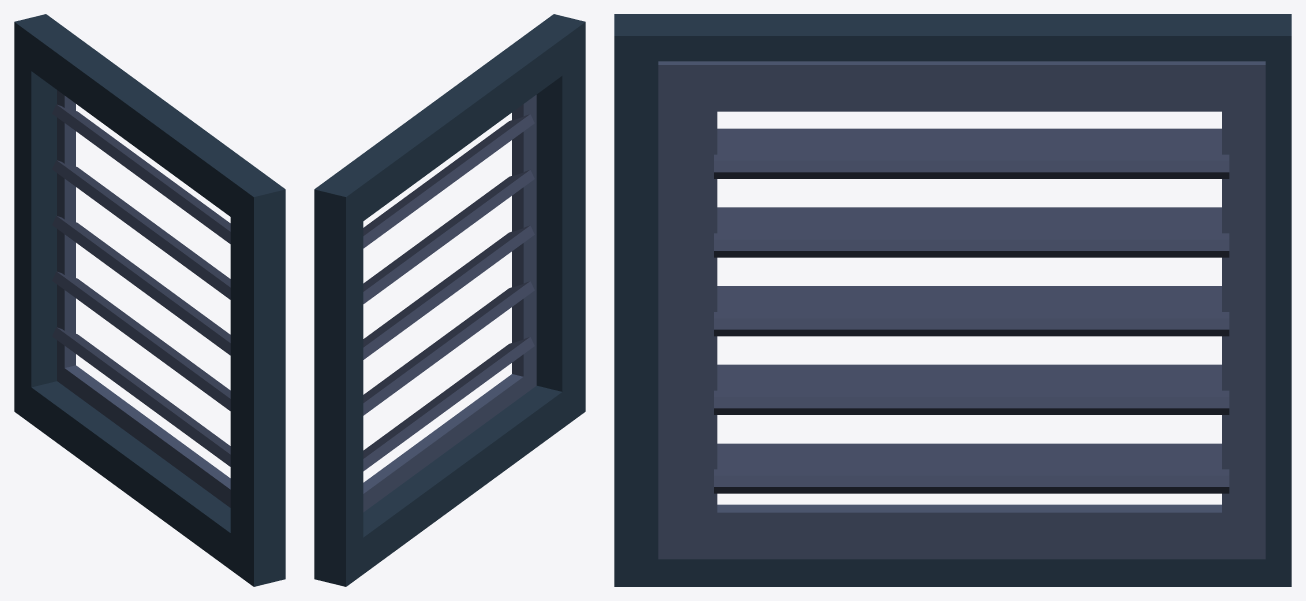
Rendered from vent-opening.fbx.
The picture shows the model from 3 angles, left to right: view 1: azimuth 30°, elevation 25°; view 2: azimuth 150°, elevation 25°; view 3: azimuth 270°, elevation 25°; orthographic projection. The views are drawn at different scales.
Visible parts, largest first — view 1: vent-opening-frame, vent-door; view 2: vent-opening-frame, vent-door; view 3: vent-door, vent-opening-frame.
Boxes of the visible parts, x1,y1,x2,y2 form: vent-opening-frame: (14,14,285,586); vent-door: (52,90,230,507); vent-opening-frame: (314,14,585,586); vent-door: (363,95,536,512); vent-door: (658,61,1265,559); vent-opening-frame: (614,14,1291,586).
Bounding box in the file's own units: 0.0878 × 0.78 × 0.7.
Materials: 1 (1 with a texture image).
